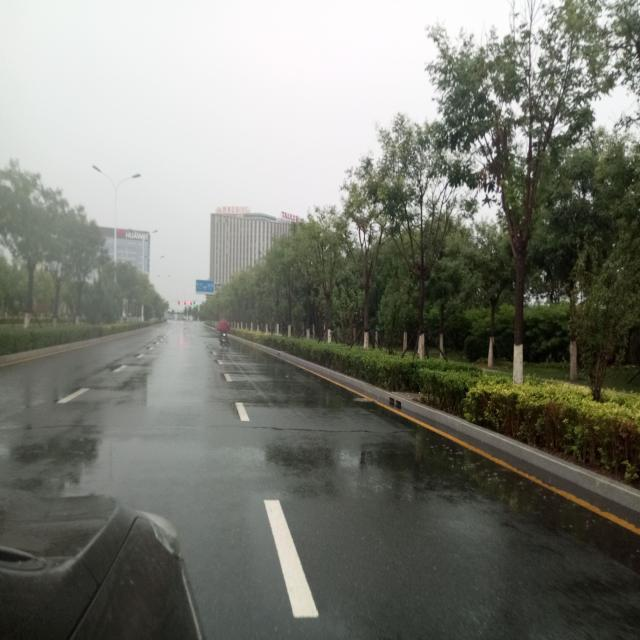car: (0, 484, 206, 640)
